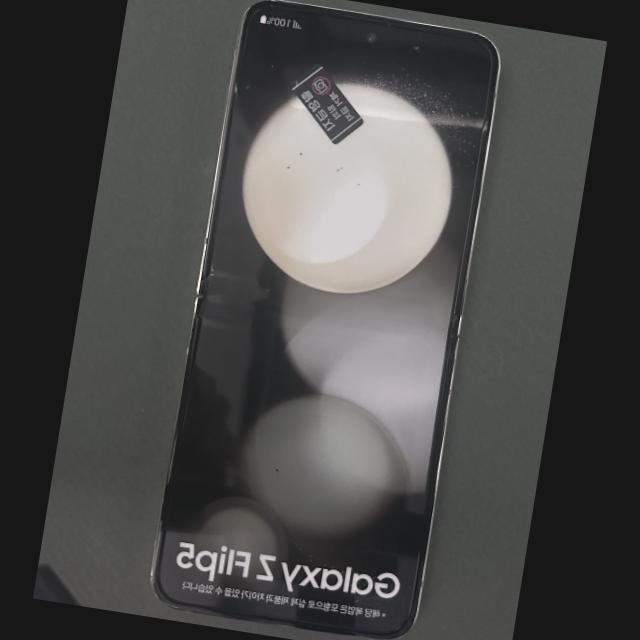phone: (152, 1, 498, 637)
sticker: (289, 64, 364, 144)
